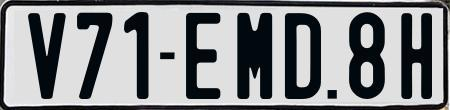1: (123, 9, 149, 96)
7: (76, 10, 115, 98)
8: (348, 11, 390, 99)
D: (283, 12, 322, 98)
E: (185, 11, 224, 99)
H: (401, 13, 432, 101)
M: (234, 11, 269, 98)
V: (28, 10, 67, 97)
